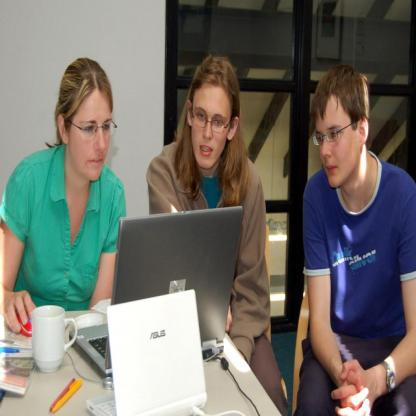board: (69, 206, 241, 385), (86, 288, 208, 416)
